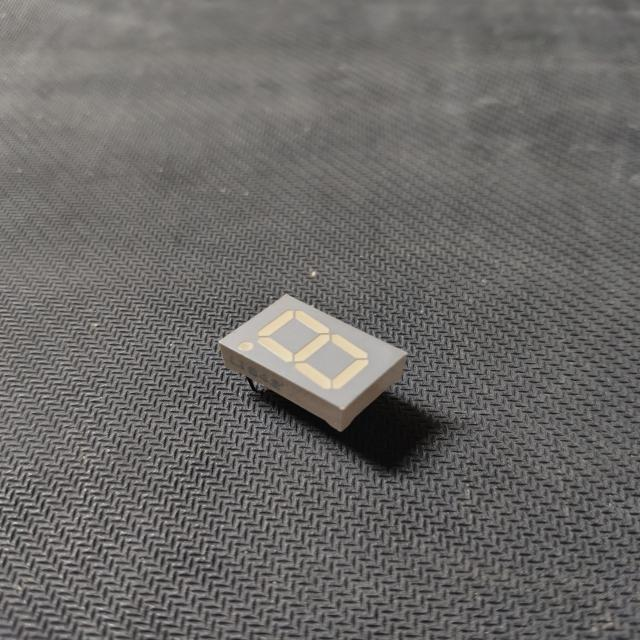sevensegment: (204, 282, 439, 439)
